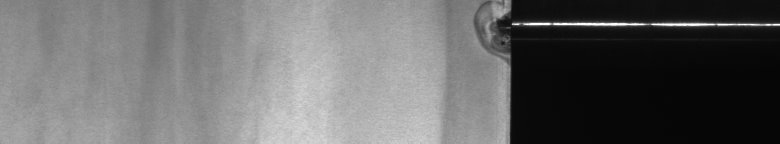hb: (468, 4, 500, 64)
